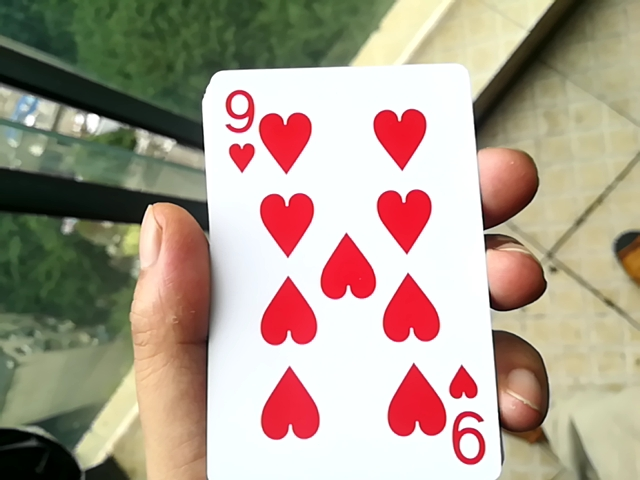hx 9: (178, 61, 496, 480)
